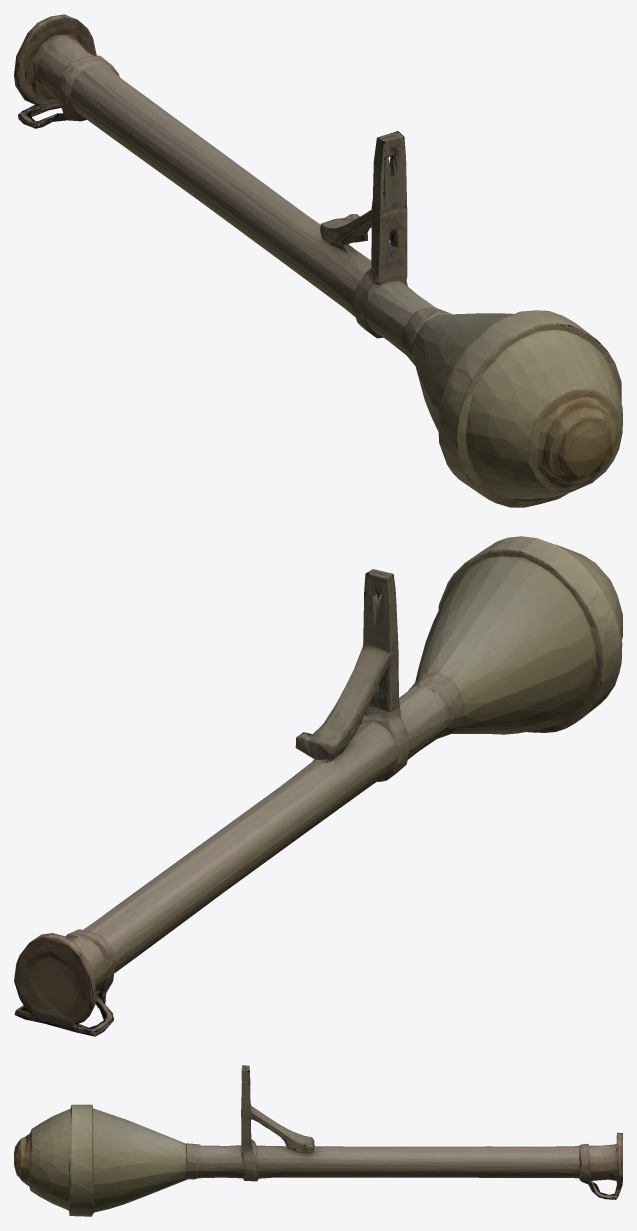
File: panzerfaust.glb
3 views of the same model, one above another, from view 1: azimuth 30°, elevation 25°; view 2: azimuth 150°, elevation 25°; view 3: azimuth 270°, elevation 25° (orthographic). The views are drawn at different scales.
Visible parts, largest first — view 1: geometry_0; view 2: geometry_0; view 3: geometry_0.
Boxes of the visible parts, x1,y1,x2,y2 form: geometry_0: (14,14,622,507); geometry_0: (14,536,622,1036); geometry_0: (14,1065,622,1216).
Bounding box in the file's own units: 0.1795 × 0.262 × 0.9999.
Materials: 1 (1 with a texture image).
